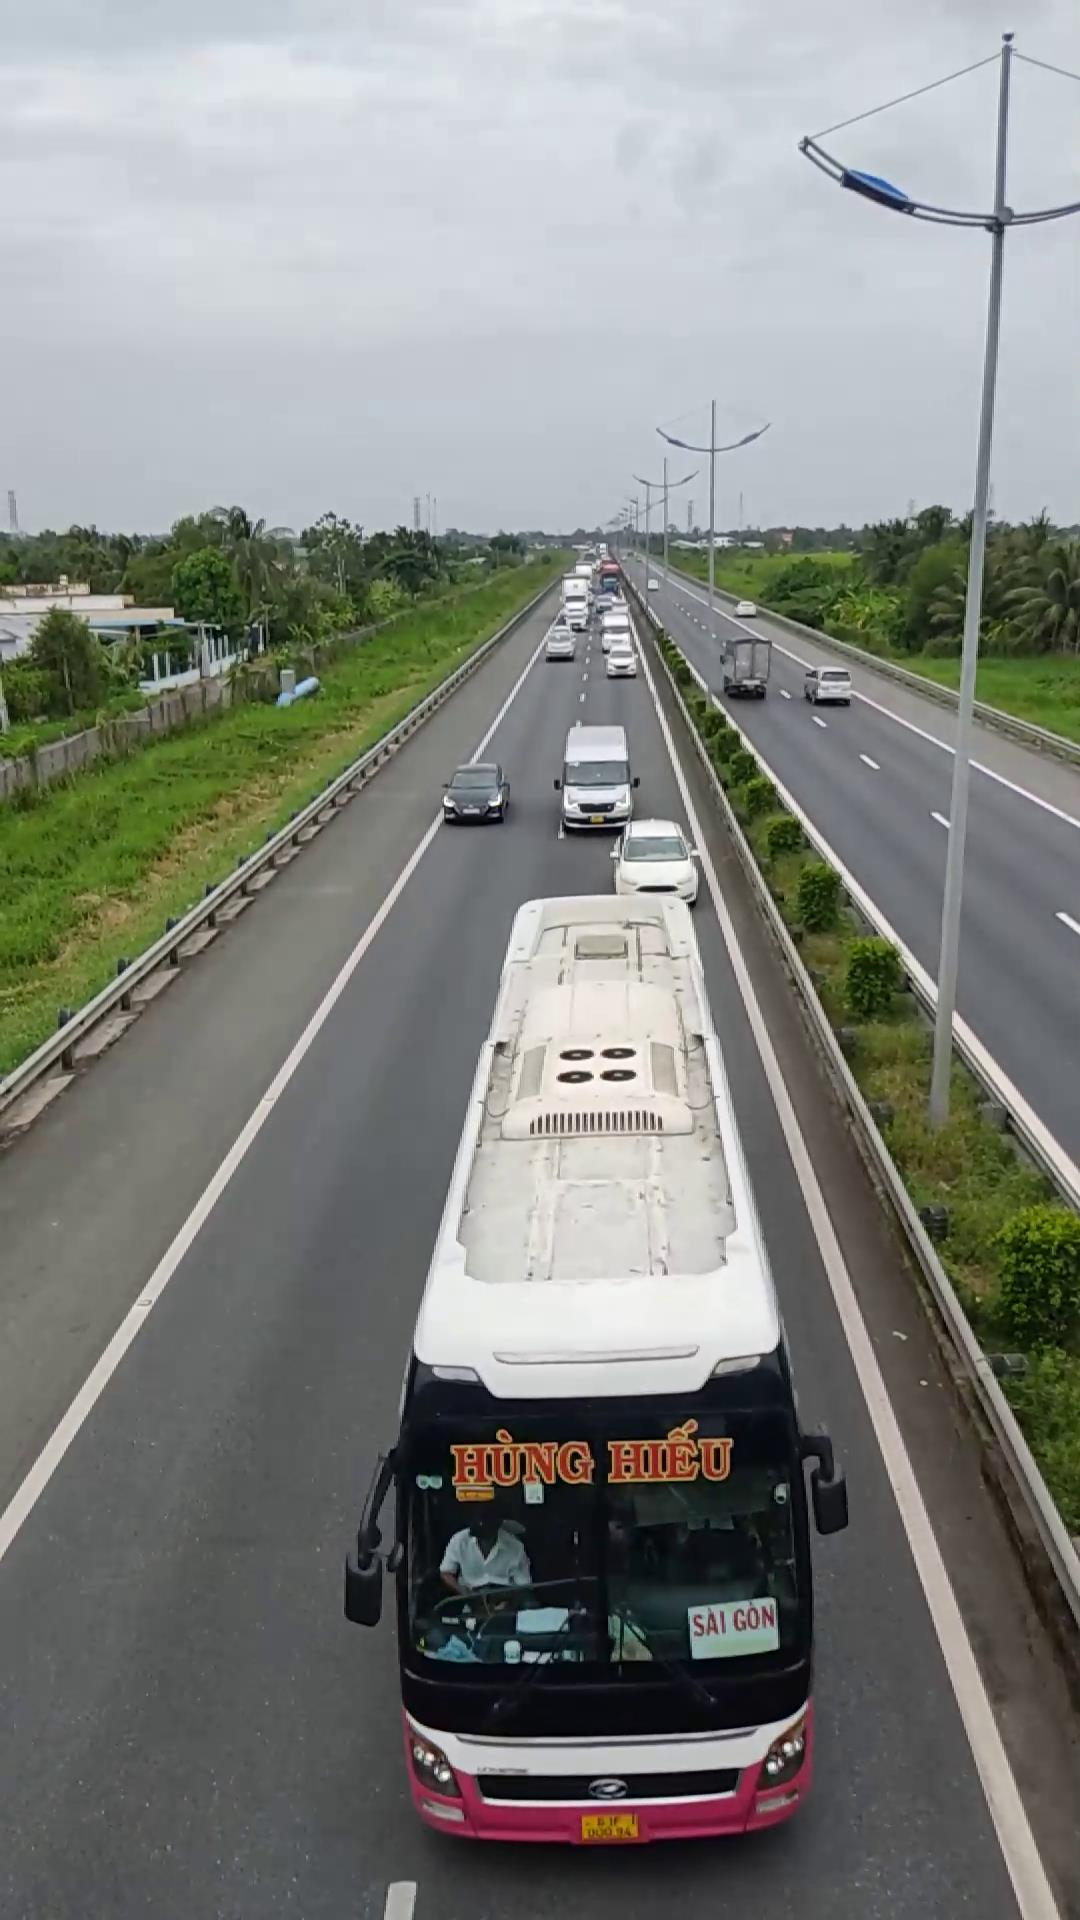bus: (351, 880, 845, 1847)
car: (555, 723, 640, 832), (440, 764, 513, 824)
